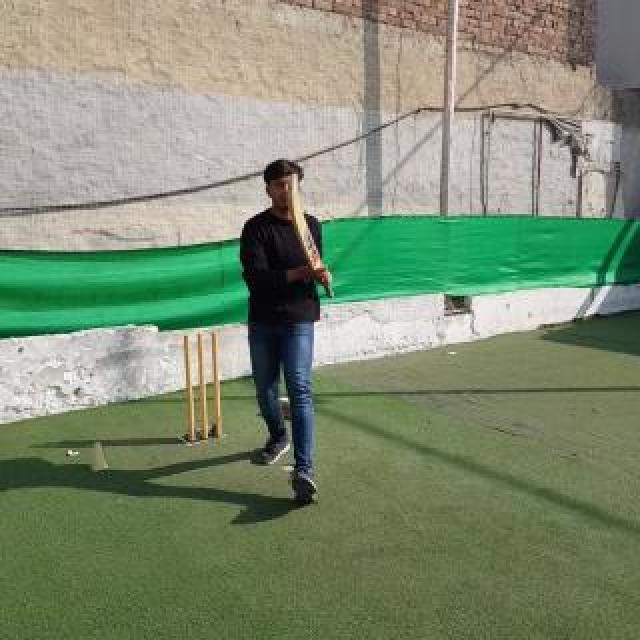bat: (288, 174, 334, 298)
